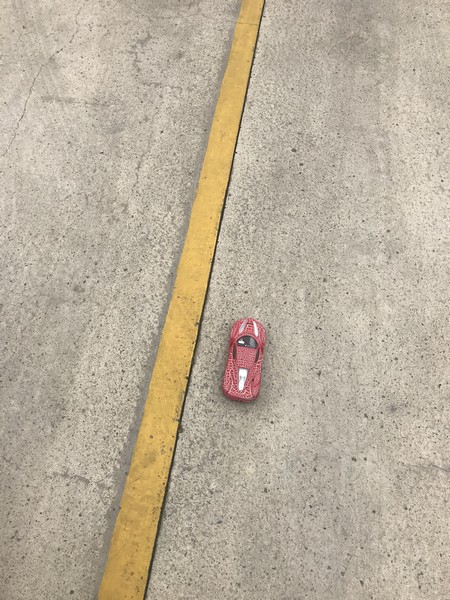RC: (220, 316, 267, 404)
